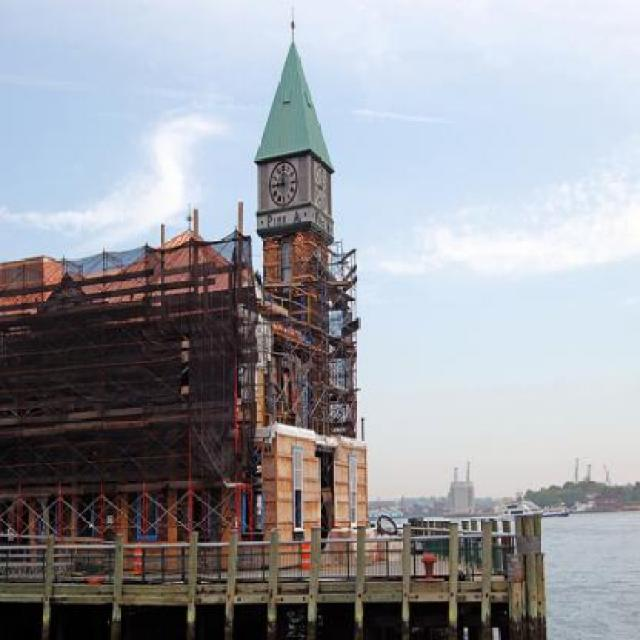ship: (500, 500, 546, 518), (541, 501, 568, 516)
